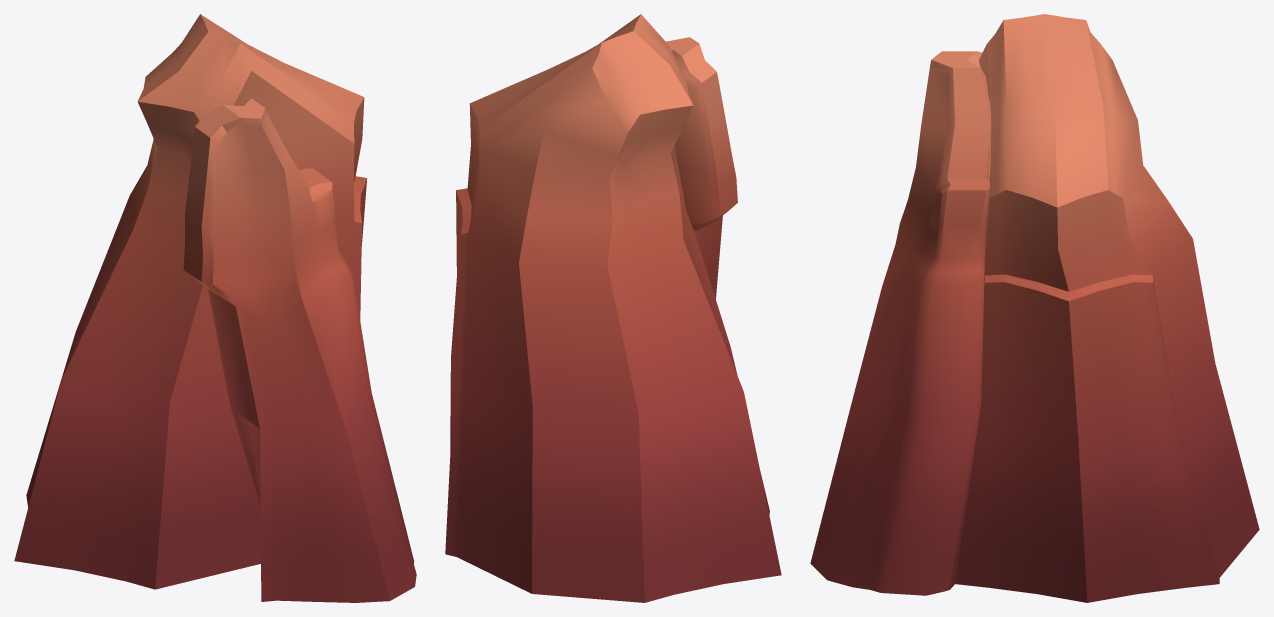
The model's file is Cliffs_V01.fbx.
The picture shows the model from 3 angles, left to right: view 1: azimuth 30°, elevation 25°; view 2: azimuth 150°, elevation 25°; view 3: azimuth 270°, elevation 25°; orthographic projection. The views are drawn at different scales.
Parts seen in each view (by area): view 1: SM_Cliff_V01_C01_01; view 2: SM_Cliff_V01_C01_01; view 3: SM_Cliff_V01_C01_01.
Part boxes in pixels (x1=…): SM_Cliff_V01_C01_01: x1=14, y1=14, x2=416, y2=602; SM_Cliff_V01_C01_01: x1=445, y1=14, x2=781, y2=602; SM_Cliff_V01_C01_01: x1=810, y1=14, x2=1259, y2=602.
Bounding box in the file's own units: 512 × 714 × 564.
